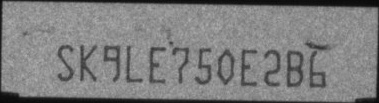2: (262, 49, 280, 86)
5: (194, 48, 212, 84)
6: (309, 49, 327, 88)
7: (171, 46, 190, 82)
9: (102, 44, 121, 82)
B: (286, 49, 303, 88)
E: (148, 45, 167, 84), (239, 47, 257, 87)
K: (79, 44, 96, 81)
L: (126, 44, 144, 82)
O: (215, 48, 233, 85)
S: (56, 42, 73, 81)
